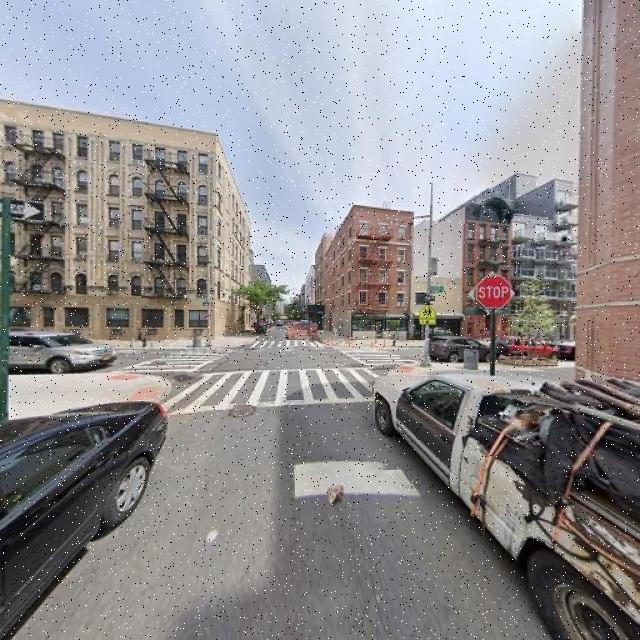Building: (4, 103, 250, 343), (583, 1, 640, 427), (327, 205, 410, 340)
